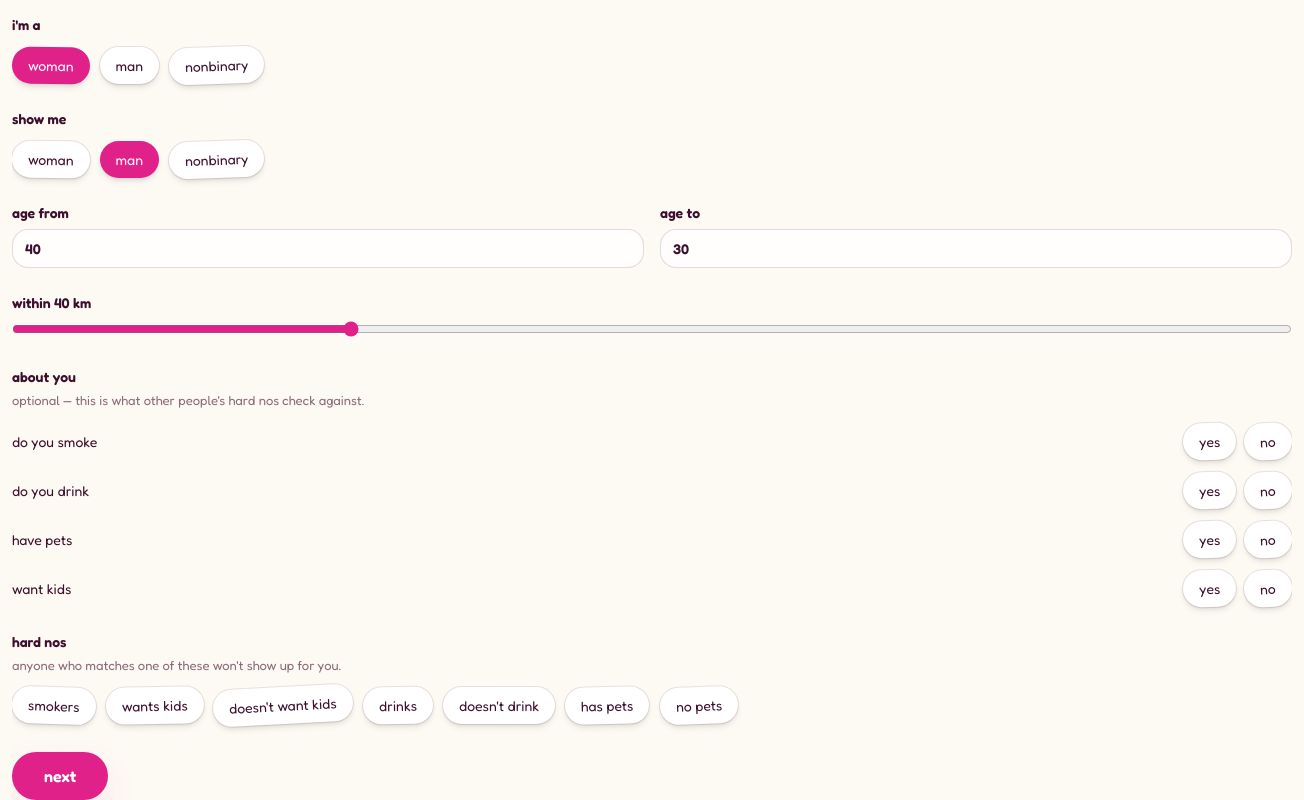
PreferencesStep › error: age_max below age_min is rejected before any save
(page scrolled)
Click the button "next" at x=60, y=776, box [12,752,108,799]
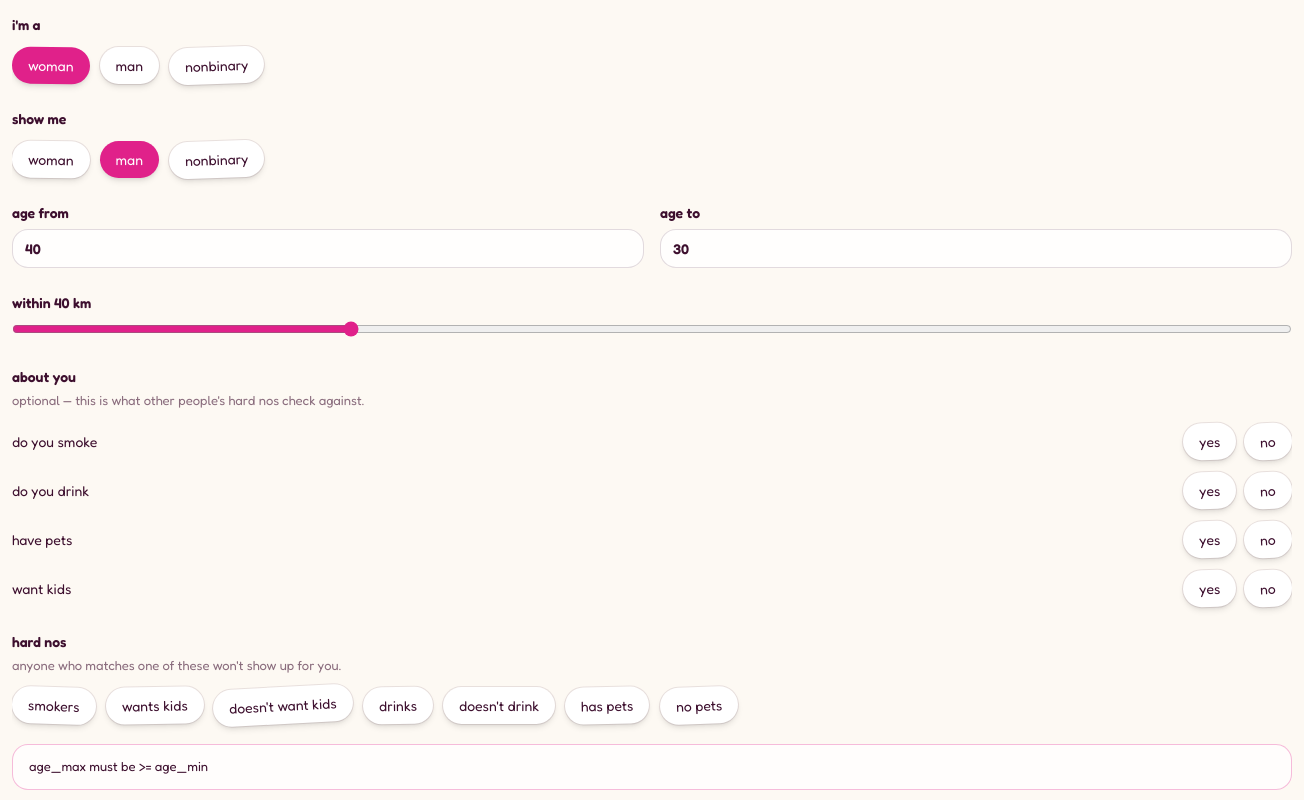
Check: the message "age_max must be >= age_min" is shown, box [12,744,1292,790]
